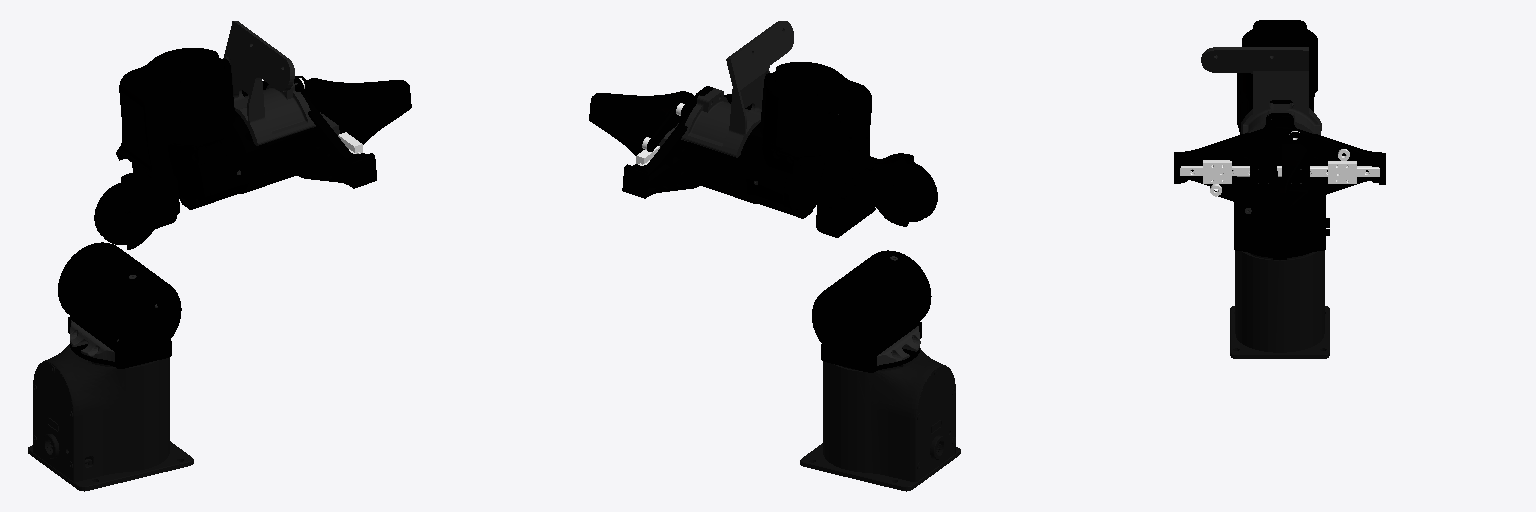
The robot description file, URDF, robot "piper_x_camera":
<?xml version="1.0" ?>
<!-- =================================================================================== -->
<!-- |    This document was autogenerated by xacro from piper_x_description.xacro      | -->
<!-- |    EDITING THIS FILE BY HAND IS NOT RECOMMENDED                                 | -->
<!-- =================================================================================== -->
<!-- This URDF was automatically created by SolidWorks to URDF Exporter! Originally created by Stephen Brawner (brawner@gmail.com) 
     Commit Version: 1.6.0-4-g7f85cfe  Build Version: 1.6.7995.38578
     For more information, please see http://wiki.ros.org/sw_urdf_exporter -->
<robot name="piper_x_camera">
  <material name="aluminum">
    <color rgba="0.5 0.5 0.5 1"/>
  </material>
  <material name="plastic">
    <color rgba="0.1 0.1 0.1 1"/>
  </material>
  <link name="d435_camera_link"/>
  <!-- camera body, with origin at bottom screw mount -->
  <joint name="camera_joint" type="fixed">
    <origin rpy="0 0 0" xyz="0 0 0"/>
    <parent link="d435_camera_link"/>
    <child link="camera_bottom_screw_frame"/>
  </joint>
  <link name="camera_bottom_screw_frame"/>
  <joint name="camera_link_joint" type="fixed">
    <origin rpy="0 0 0" xyz="0.010600000000000002 0.0175 0.0125"/>
    <parent link="camera_bottom_screw_frame"/>
    <child link="camera_link"/>
  </joint>
  <link name="camera_link">
    <visual>
      <!-- the mesh origin is at front plate in between the two infrared camera axes -->
      <origin rpy="1.5707963267948966 0 1.5707963267948966" xyz="0.0043 0.0 0"/>
      <geometry>
        <mesh filename="package://realsense2_description/meshes/d435.dae"/>
      </geometry>
    </visual>
    <collision>
      <origin rpy="0 0 0" xyz="0 -0.0175 0"/>
      <geometry>
        <box size="0.02505 0.09 0.025"/>
      </geometry>
    </collision>
    <inertial>
      <!-- The following are not reliable values, and should not be used for modeling -->
      <mass value="0.072"/>
      <origin xyz="0 0 0"/>
      <inertia ixx="0.0003881243" ixy="0.0" ixz="0.0" iyy="0.0000498940" iyz="0.0" izz="0.0003879257"/>
    </inertial>
  </link>
  <!-- <xacro:if value="${add_plug}">
      <xacro:usb_plug parent="${name}_link" name="${name}_usb_plug">
        <origin xyz="${d435_cam_mount_from_center_offset - 0.02095} ${-d435_cam_depth_py - 0.0353} 0" rpy="0 0 0"/>
      </xacro:usb_plug>
    </xacro:if> -->
  <link
    name="base_link">
  <inertial>
    <origin xyz="-0.00347 -0.00012 0.04283" rpy="0 0 0"/>
    <mass value="1.07"/>
    <inertia
      ixx="0.00298745"
      ixy="0.00000369"
      ixz="0.00016646"
      iyy="0.00312688"
      iyz="0.00000832"
      izz="0.00093042"/>
  </inertial>
    <visual>
      <origin
        xyz="0 0 0"
        rpy="0 0 0" />
      <geometry>
        <mesh filename="package://piper_x_description/meshes/dark_dae/base_link.dae"/>
      </geometry>
    </visual>
    <collision>
      <origin
        xyz="0 0 0"
        rpy="0 0 0" />
      <geometry>
        <mesh filename="package://piper_x_description/meshes/dark_dae/base_link.dae"/>
      </geometry>
    </collision>
  </link>
  <link
    name="link1">
    <inertial>
      <origin xyz="0.00065 0.00006 -0.00325" rpy="0 0 0"/>
      <mass
        value="0.71" />
      <inertia
        ixx="0.00051254"
        ixy="0.00000294"
        ixz="0.00001039"
        iyy="0.00041089"
        iyz="0.00000240"
        izz="0.00045962"/>
    </inertial>
    <visual>
      <origin
        xyz="0 0 0"
        rpy="0 0 0" />
      <geometry>
        <mesh filename="package://piper_x_description/meshes/dark_dae/J1.dae"/>
      </geometry>
    </visual>
    <collision>
      <origin
        xyz="0 0 0"
        rpy="0 0 0" />
      <geometry>
        <mesh filename="package://piper_x_description/meshes/dark_dae/J1.dae"/>
      </geometry>
    </collision>
  </link>
  <joint
    name="joint1"
    type="revolute">
    <origin
      xyz="0 0 0.123"
      rpy="0 0 0" />
    <parent
      link="base_link" />
    <child
      link="link1" />
    <axis
      xyz="0 0 1" />
    <limit
      lower="-2.618"
      upper="2.618"
      effort="100"
      velocity="10" />
  </joint>
  <link
    name="link2">
    <inertial>
      <origin xyz="0.21854 -0.00853 0.00234" rpy="0 0 0"/>
      <mass value="1.16"/>
      <inertia
        ixx="0.00109788"
        ixy="0.00180610"
        ixz="0.00055040"
        iyy="0.06763354"
        iyz="0.00000813"
        izz="0.06762540"/>
    </inertial>
    <visual>
      <origin
        xyz="0 0 0"
        rpy="0 0 0" />
      <geometry>
        <mesh filename="package://piper_x_description/meshes/dark_dae/J2.dae"/>
      </geometry>
    </visual>
    <collision>
      <origin
        xyz="0 0 0"
        rpy="0 0 0" />
      <geometry>
        <mesh filename="package://piper_x_description/meshes/dark_dae/J2.dae"/>
      </geometry>
    </collision>
  </link>
  <joint
    name="joint2"
    type="revolute">
    <origin
      xyz="0 0 0"
      rpy="1.5708 -0.13586 3.1416" />
    <parent
      link="link1" />
    <child
      link="link2" />
    <axis
      xyz="0 0 1" />
    <limit
      lower="0"
      upper="3.14"
      effort="100"
      velocity="10" />
  </joint>
  <link
    name="link3">
    <inertial>
      <origin xyz="0.20190 -0.00415 -0.00114" rpy="0 0 0"/>
      <mass value="0.67"/>
      <inertia
        ixx="0.00033471"
        ixy="0.00026891"
        ixz="0.00013918"
        iyy="0.03360411"
        iyz="0.00000052"
        izz="0.03356941"/>
    </inertial>
    <visual>
      <origin
        xyz="0 0 0"
        rpy="0 0 0" />
      <geometry>
        <mesh filename="package://piper_x_description/meshes/dark_dae/J3.dae"/>
      </geometry>
    </visual>
    <collision>
      <origin
        xyz="0 0 0"
        rpy="0 0 0" />
      <geometry>
        <mesh filename="package://piper_x_description/meshes/dark_dae/J3.dae"/>
      </geometry>
    </collision>
  </link>
  <joint
    name="joint3"
    type="revolute">
    <origin
      xyz="0.28503 0 0"
      rpy="0 0 2.8377" />
    <parent
      link="link2" />
    <child
      link="link3" />
    <axis
      xyz="0 0 1" />
    <limit
      lower="-2.9671"
      upper="0"
      effort="100"
      velocity="10" />
  </joint>
  <link
    name="link4">
    <inertial>
      <origin xyz="0.06593 -0.04751 -0.00274" rpy="0 0 0"/>
      <mass value="0.4"/>
      <inertia
        ixx="0.00120173"
        ixy="0.00138165"
        ixz="0.00001187"
        iyy="0.00209324"
        iyz="0.00000217"
        izz="0.00307814"/>
    </inertial>
    <visual>
      <origin
        xyz="0 0 0"
        rpy="0 0 0" />
      <geometry>
        <mesh filename="package://piper_x_description/meshes/dark_dae/J4.dae"/>
      </geometry>
    </visual>
    <collision>
      <origin
        xyz="0 0 0"
        rpy="0 0 0" />
      <geometry>
        <mesh filename="package://piper_x_description/meshes/dark_dae/J4.dae"/>
      </geometry>
    </collision>
  </link>
  <joint
    name="joint4"
    type="revolute">
    <origin
      xyz="0.27264 0 0"
      rpy="0 0 0.075129" />
    <parent
      link="link3" />
    <child
      link="link4" />
    <axis
      xyz="0 0 1" />
    <limit
      lower="-1.57"
      upper="1.57"
      effort="100"
      velocity="10" />
  </joint>
  <link
    name="link5">
    <inertial>
      <origin xyz="0.00005 0.0 -0.00417" rpy="0 0 0"/>
      <mass value="0.35"/>
      <inertia
        ixx="0.00022660"
        ixy="0.00000019"
        ixz="0.00000005"
        iyy="0.00017740"
        iyz="0.00000085"
        izz="0.00019425"/>
    </inertial>
    <visual>
      <origin
        xyz="0 0 0"
        rpy="0 0 0" />
      <geometry>
        <mesh filename="package://piper_x_description/meshes/dark_dae/J5.dae"/>
      </geometry>
    </visual>
    <collision>
      <origin
        xyz="0 0 0"
        rpy="0 0 0" />
      <geometry>
        <mesh filename="package://piper_x_description/meshes/dark_dae/J5.dae"/>
      </geometry>
    </collision>
  </link>
  <joint
    name="joint5"
    type="revolute">
    <origin
      xyz="0.076857 0.00062395 0"
      rpy="-1.5708 0 0" />
    <parent
      link="link4" />
    <child
      link="link5" />
    <axis
      xyz="0 0 1" />
    <limit
      lower="-1.57"
      upper="1.57"
      effort="100"
      velocity="10" />
  </joint>
  <link
    name="link6">
    <inertial>
      <origin xyz="0 0 -0.00351" rpy="0 0 0"/>
      <mass value="0.007"/>
      <inertia
        ixx="0.00000064"
        ixy="0"
        ixz="0"
        iyy="0.00000064"
        iyz="0"
        izz="0.00000106"/>
    </inertial>
    <visual>
      <origin
        xyz="0 0 -0.035"
        rpy="0 0 0" />
      <geometry>
        <mesh filename="package://piper_x_description/meshes/dark_dae/J6.dae"/>
      </geometry>
    </visual>
    <collision>
      <origin
        xyz="0 0 -0.035"
        rpy="0 0 0" />
      <geometry>
        <mesh filename="package://piper_x_description/meshes/dark_dae/J6.dae"/>
      </geometry>
    </collision>
  </link>
  <joint
    name="joint6"
    type="revolute">
    <origin
      xyz="0.035 0 0"
      rpy="1.5708 0 1.5708" />
    <parent
      link="link5" />
    <child
      link="link6" />
    <axis
      xyz="0 0 1" />
    <limit
      lower="-3.14"
      upper="3.14"
      effort="100"
      velocity="10" />
  </joint>

  <link
    name="gripper_base">
    <inertial>
      <origin xyz="-0.00006 -0.00003 0.0321436689908876" rpy="0 0 0"/>
      <mass value="0.52"/>
      <inertia
        ixx="0.00151445"
        ixy="0.00000048"
        ixz="0.00000003"
        iyy="0.00162326"
        iyz="0.00000277"
        izz="0.00030728"/>
    </inertial>
    <visual>
      <origin
        xyz="0.002 0.0078 0.06"
        rpy="-1.57 0 3.14" />
      <geometry>
        <mesh
          filename="package://piper_x_description/meshes/dark_dae/gripper_base_100_v2.dae" scale="0.8 0.8 0.8"/>
      </geometry>
    </visual>
    <collision>
      <origin
        xyz="0.002 0.0078 0.06"
        rpy="-1.57 0 3.14" />
      <geometry>
        <mesh
          filename="package://piper_x_description/meshes/dark_dae/gripper_base_100_v2.dae" scale="0.8 0.8 0.8"/>
      </geometry>
    </collision>
  </link>

  <joint
    name="joint6_to_gripper_base"
    type="fixed">
    <origin
      xyz="0 0 0"
      rpy="0 0 0" />
    <parent
      link="link6" />
    <child
      link="gripper_base" />
  </joint>

  <link name="link7">
    <inertial>
    <origin
        xyz="0.000277816920932317 -0.0467673824063769 -0.00921030054508036"
        rpy="0 0 0" />
    <mass value="0.0264822021416248" />
    <inertia
        ixx="9.99779119357223E-06"
        ixy="-1.57542283433504E-07"
        ixz="2.71367446701359E-08"
        iyy="6.17952441557932E-06"
        iyz="1.58939319453383E-06"
        izz="1.4210192754512E-05" />
    </inertial>
    <visual>
      <geometry>
        <mesh filename="package://piper_x_description/meshes/dark_dae/J7.dae" />
      </geometry>
    </visual>
    <collision>
      <geometry>
        <mesh filename="package://piper_x_description/meshes/dark_dae/J7.dae" />
      </geometry>
    </collision>
  </link>

    <joint name="joint7" type="prismatic">
        <origin xyz="0 0 0.13503" rpy="1.5708 0 1.5708" />
        <parent link="gripper_base" />
        <child link="link7" />
        <axis xyz="0 0 -1" />
        <limit lower="0" upper="0.05" effort="100" velocity="1" />
    </joint>

    <link name="link8">
        <inertial>
        <origin
            xyz="0.000277816920932317 0.0467673824063769 -0.00921030054508036"
            rpy="0 0 0" />
        <mass value="0.0264822021416248" />
        <inertia
            ixx="9.99779119357223E-06"
            ixy="-1.57542283433504E-07"
            ixz="2.71367446701359E-08"
            iyy="6.17952441557932E-06"
            iyz="1.58939319453383E-06"
            izz="1.4210192754512E-05" />
        </inertial>
        <visual>
        <origin xyz="0 0 0" rpy="0 0 0" />
        <geometry>
          <mesh filename="package://piper_x_description/meshes/dark_dae/J8.dae" />
        </geometry>
        </visual>
        <collision>
        <origin xyz="0 0 0" rpy="0 0 0" />
        <geometry>
          <mesh filename="package://piper_x_description/meshes/dark_dae/J8.dae" />
        </geometry>
        </collision>
    </link>
    <joint name="joint8" type="prismatic">
        <origin xyz="0 0 0.13503" rpy="-1.5708 0 1.5708" />
        <parent link="gripper_base" />
        <child link="link8" />
        <axis xyz="0 0 1" />
        <limit lower="-0.05" upper="0" effort="100" velocity="1" />
    </joint>
  <link name="camera_stand_link">
    <inertial>
      <origin rpy="0.0 0.0 0.0" xyz="0.0 0.0 0.0"/>
      <mass value="0.0"/>
      <inertia ixx="0.0" ixy="0.0" ixz="0.0" iyy="0.0" iyz="0.0" izz="0.0"/>
    </inertial>
    <visual name="">
      <origin rpy="0.0 0.0 0.0" xyz="0.0 0.0 0.0"/>
      <geometry>
        <mesh filename="package://piper_x_description/meshes/dae/realsense_mid_stand.dae"/>
      </geometry>
    </visual>
    <collision>
      <origin rpy="0.0 0.0 0.0" xyz="0.0 0.0 0.0"/>
      <geometry>
        <mesh filename="package://piper_x_description/meshes/dae/realsense_mid_stand.dae"/>
      </geometry>
    </collision>
  </link>
  <joint name="camera_stand_joint" type="fixed">
    <origin rpy="1.57 3.14 0.0" xyz="0.001 -0.036 0.022"/>
    <parent link="gripper_base"/>
    <child link="camera_stand_link"/>
    <axis xyz="0.0 0.0 0.0"/>
    <limit effort="0.0" lower="0.0" upper="0.0" velocity="0.0"/>
  </joint>
  <joint name="d435_camera_joint" type="fixed">
    <origin rpy="0.0 -1.22 1.57" xyz="0.029 -0.069 0.022"/>
    <parent link="gripper_base"/>
    <child link="d435_camera_link"/>
    <axis xyz="0.0 0.0 0.0"/>
    <limit effort="0.0" lower="0.0" upper="0.0" velocity="0.0"/>
  </joint>
</robot>

--- What the picture shows (computed from the rendered views, not written in the file) ---
Views: 3 orthographic renders of the robot side by side, from view 1: azimuth 30°, elevation 25°; view 2: azimuth 150°, elevation 25°; view 3: azimuth 270°, elevation 25°.
Robot: piper_x_camera — 14 links, 13 joints (6 revolute, 2 prismatic, 5 fixed); root link base_link; default pose: every joint at zero.
Visible links, largest first — view 1: base_link, link4, link1, gripper_base, camera_stand_link, link5, link8, link7; view 2: link4, base_link, link1, gripper_base, camera_stand_link, link5, link7, link8; view 3: base_link, gripper_base, camera_stand_link, link1, link4, link7, link8.
Boxes of the visible links, bbox=[...] form: base_link: bbox=[28, 344, 193, 491]; link4: bbox=[94, 48, 234, 249]; link1: bbox=[58, 242, 181, 368]; gripper_base: bbox=[232, 76, 376, 193]; camera_stand_link: bbox=[223, 21, 315, 145]; link5: bbox=[168, 126, 252, 209]; link8: bbox=[320, 82, 411, 144]; link7: bbox=[304, 78, 405, 113]; link4: bbox=[760, 62, 937, 237]; base_link: bbox=[800, 348, 960, 491]; link1: bbox=[812, 250, 931, 372]; gripper_base: bbox=[622, 86, 762, 203]; camera_stand_link: bbox=[681, 21, 793, 157]; link5: bbox=[746, 137, 824, 218]; link7: bbox=[589, 95, 677, 155]; link8: bbox=[595, 91, 693, 125]; base_link: bbox=[1230, 251, 1329, 358]; gripper_base: bbox=[1174, 113, 1385, 211]; camera_stand_link: bbox=[1201, 47, 1321, 134]; link1: bbox=[1234, 195, 1329, 259]; link4: bbox=[1237, 20, 1317, 134]; link7: bbox=[1280, 142, 1309, 215]; link8: bbox=[1250, 142, 1279, 215].
Size in the robot's own frame: 0.3349 by 0.1714 by 0.3165 metres.
Meshes: 12 distinct files referenced, 8 mesh visuals loaded (8 Collada DAE); not drawn: 4 (reference not matched to a file when rendering).
